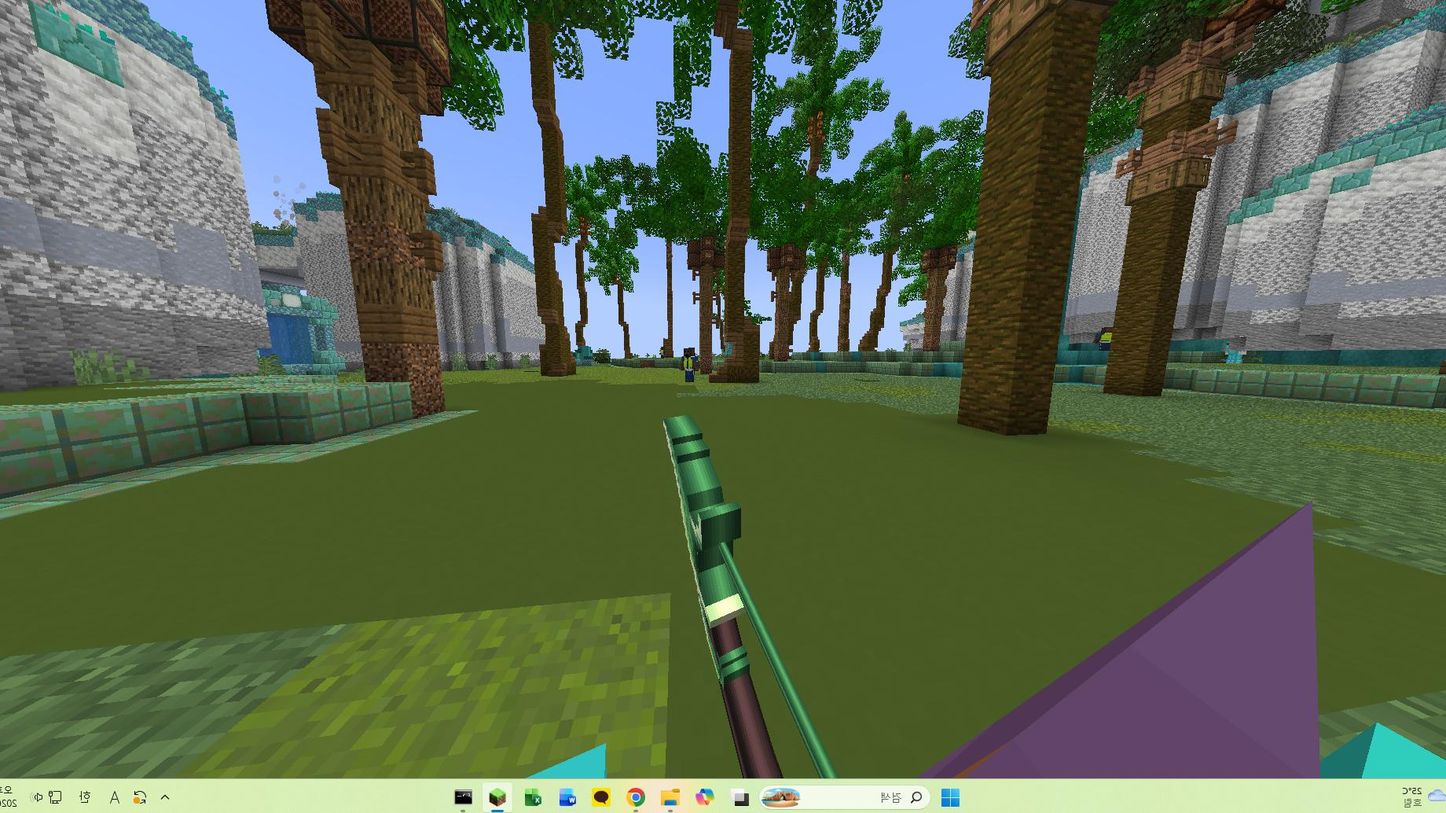Guardian: (681, 347, 699, 383)
